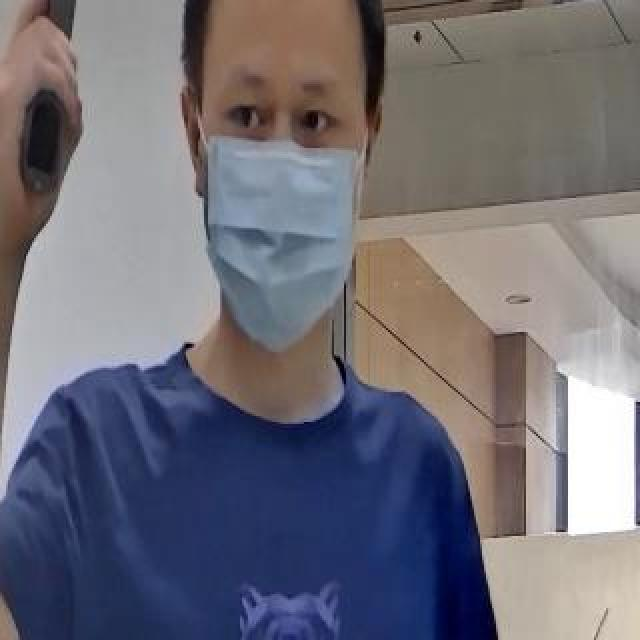Guns: (0, 0, 122, 198)
